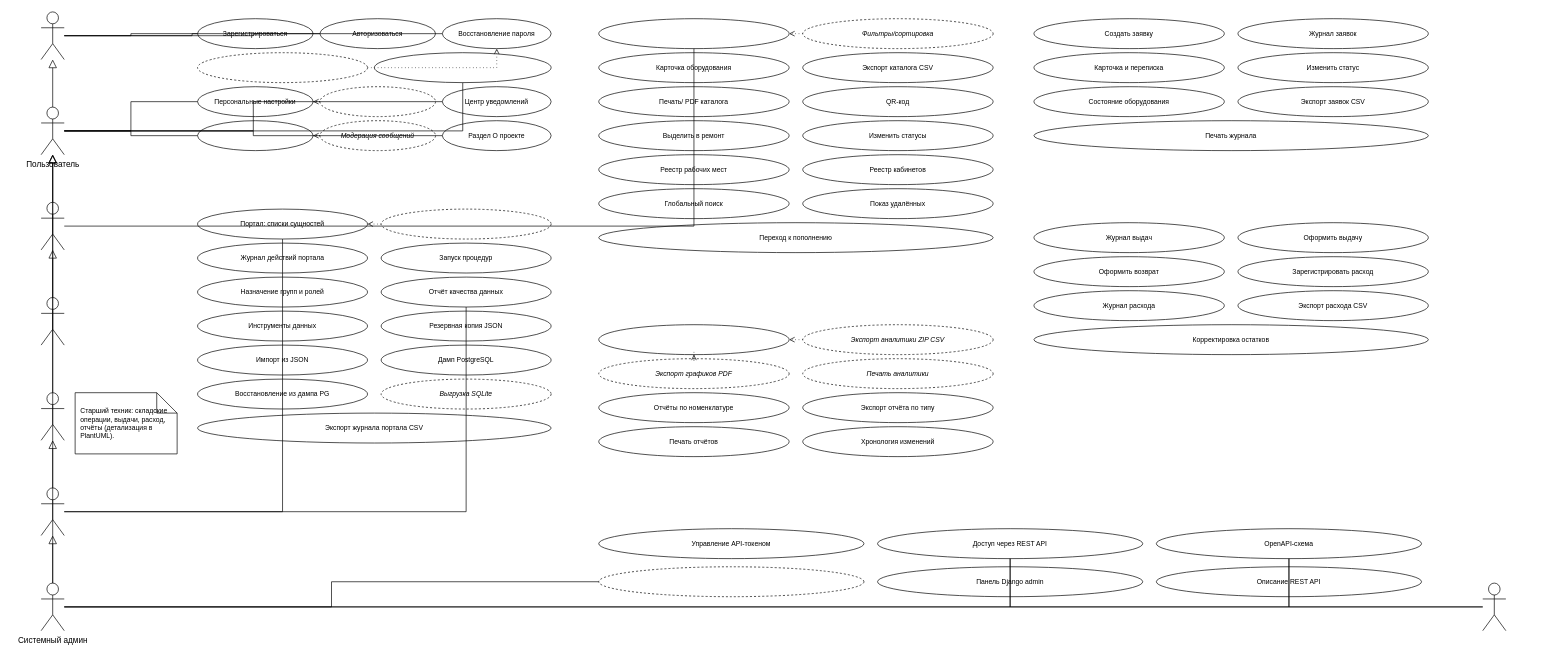
The diagram is 1554 pixels wide and 657 high, and some of its shapes have lost their labels. The shapes that lost their labels are listed below. From the top down, each one's box as (x1, y1, x2, y2) in pixels, then its label:
(40, 11, 64, 60): Гость
(598, 18, 789, 49): Каталог оборудования
(197, 52, 368, 83): Подтвердить сброс по коду
(374, 52, 551, 83): Выйти из системы
(319, 86, 436, 117): Смена языка (i18n)
(197, 120, 313, 151): Личные сообщения
(40, 202, 64, 250): Техник
(380, 208, 551, 239): Портал: CRUD/восстановление
(40, 297, 64, 345): Поддержка 1-й линии
(598, 324, 789, 355): Дашборд аналитики
(40, 392, 64, 440): Старший техник
(40, 487, 64, 536): Администратор
(598, 566, 864, 597): Метрики Prometheus
(1482, 582, 1506, 631): Внешняя система (REST)
